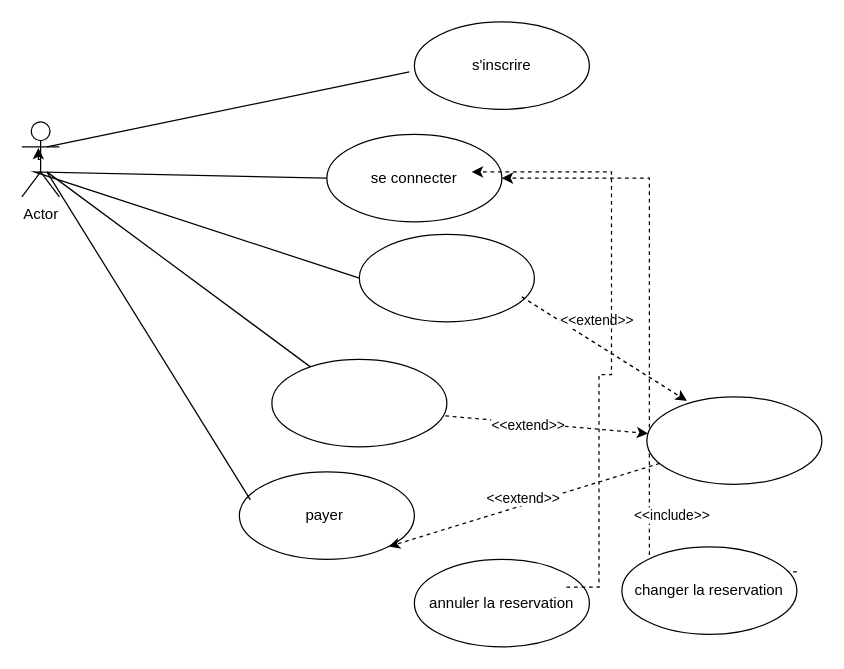
Image size: 844x669. Some labels were removed from this diagram. Here are the shapes that lost their labels. From the top down, the box of each, then its label:
(358, 233, 534, 322): chercher activité
(271, 358, 447, 447): chercher chambre
(646, 396, 822, 484): resever
